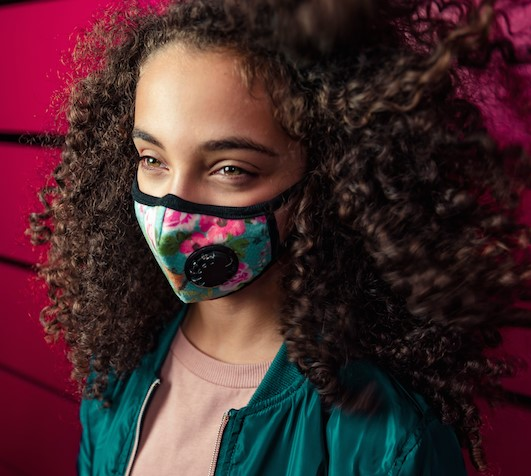face_with_mask: (81, 7, 322, 319)
